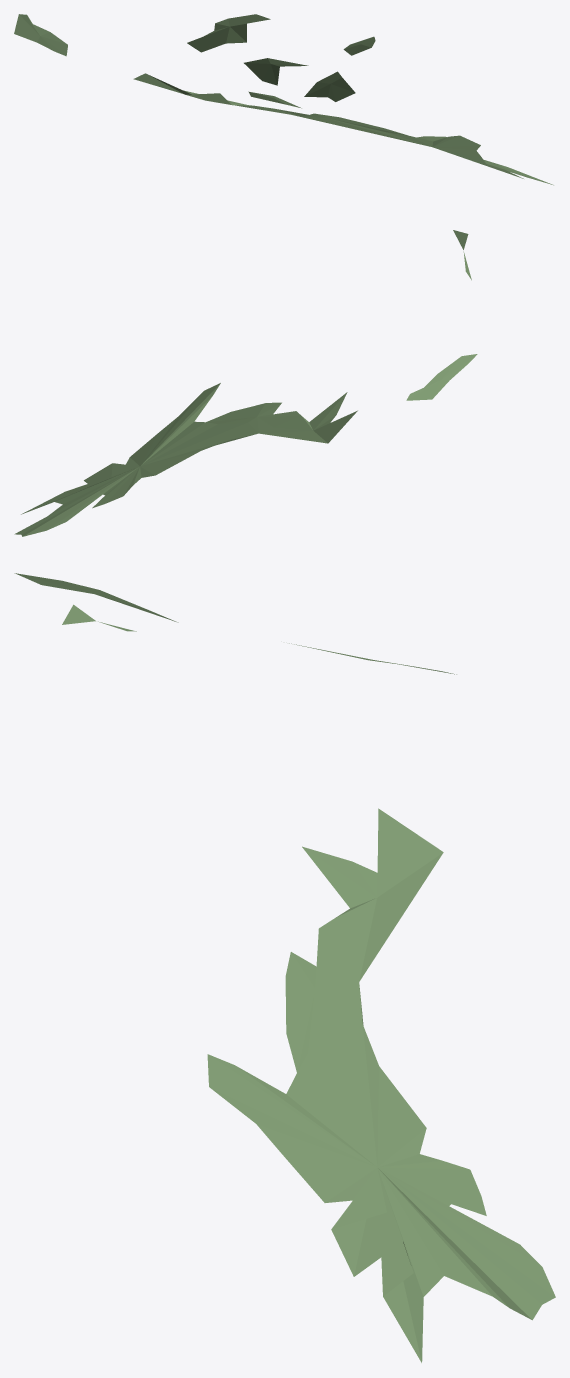
Rendered from c_1664_17817_parks.glb.
3 renders of one model, top to bottom at view 1: azimuth 30°, elevation 25°; view 2: azimuth 150°, elevation 25°; view 3: azimuth 270°, elevation 25°, orthographic. The views are drawn at different scales.
Visible parts, largest first — view 1: geometry_0; view 2: geometry_0; view 3: geometry_0.
Boxes of the visible parts, x1=… form: geometry_0: x1=14, y1=14, x2=553, y2=185; geometry_0: x1=14, y1=230, x2=477, y2=536; geometry_0: x1=14, y1=573, x2=555, y2=1362.
Bounding box in the file's own units: 341 × 233 × 228.
